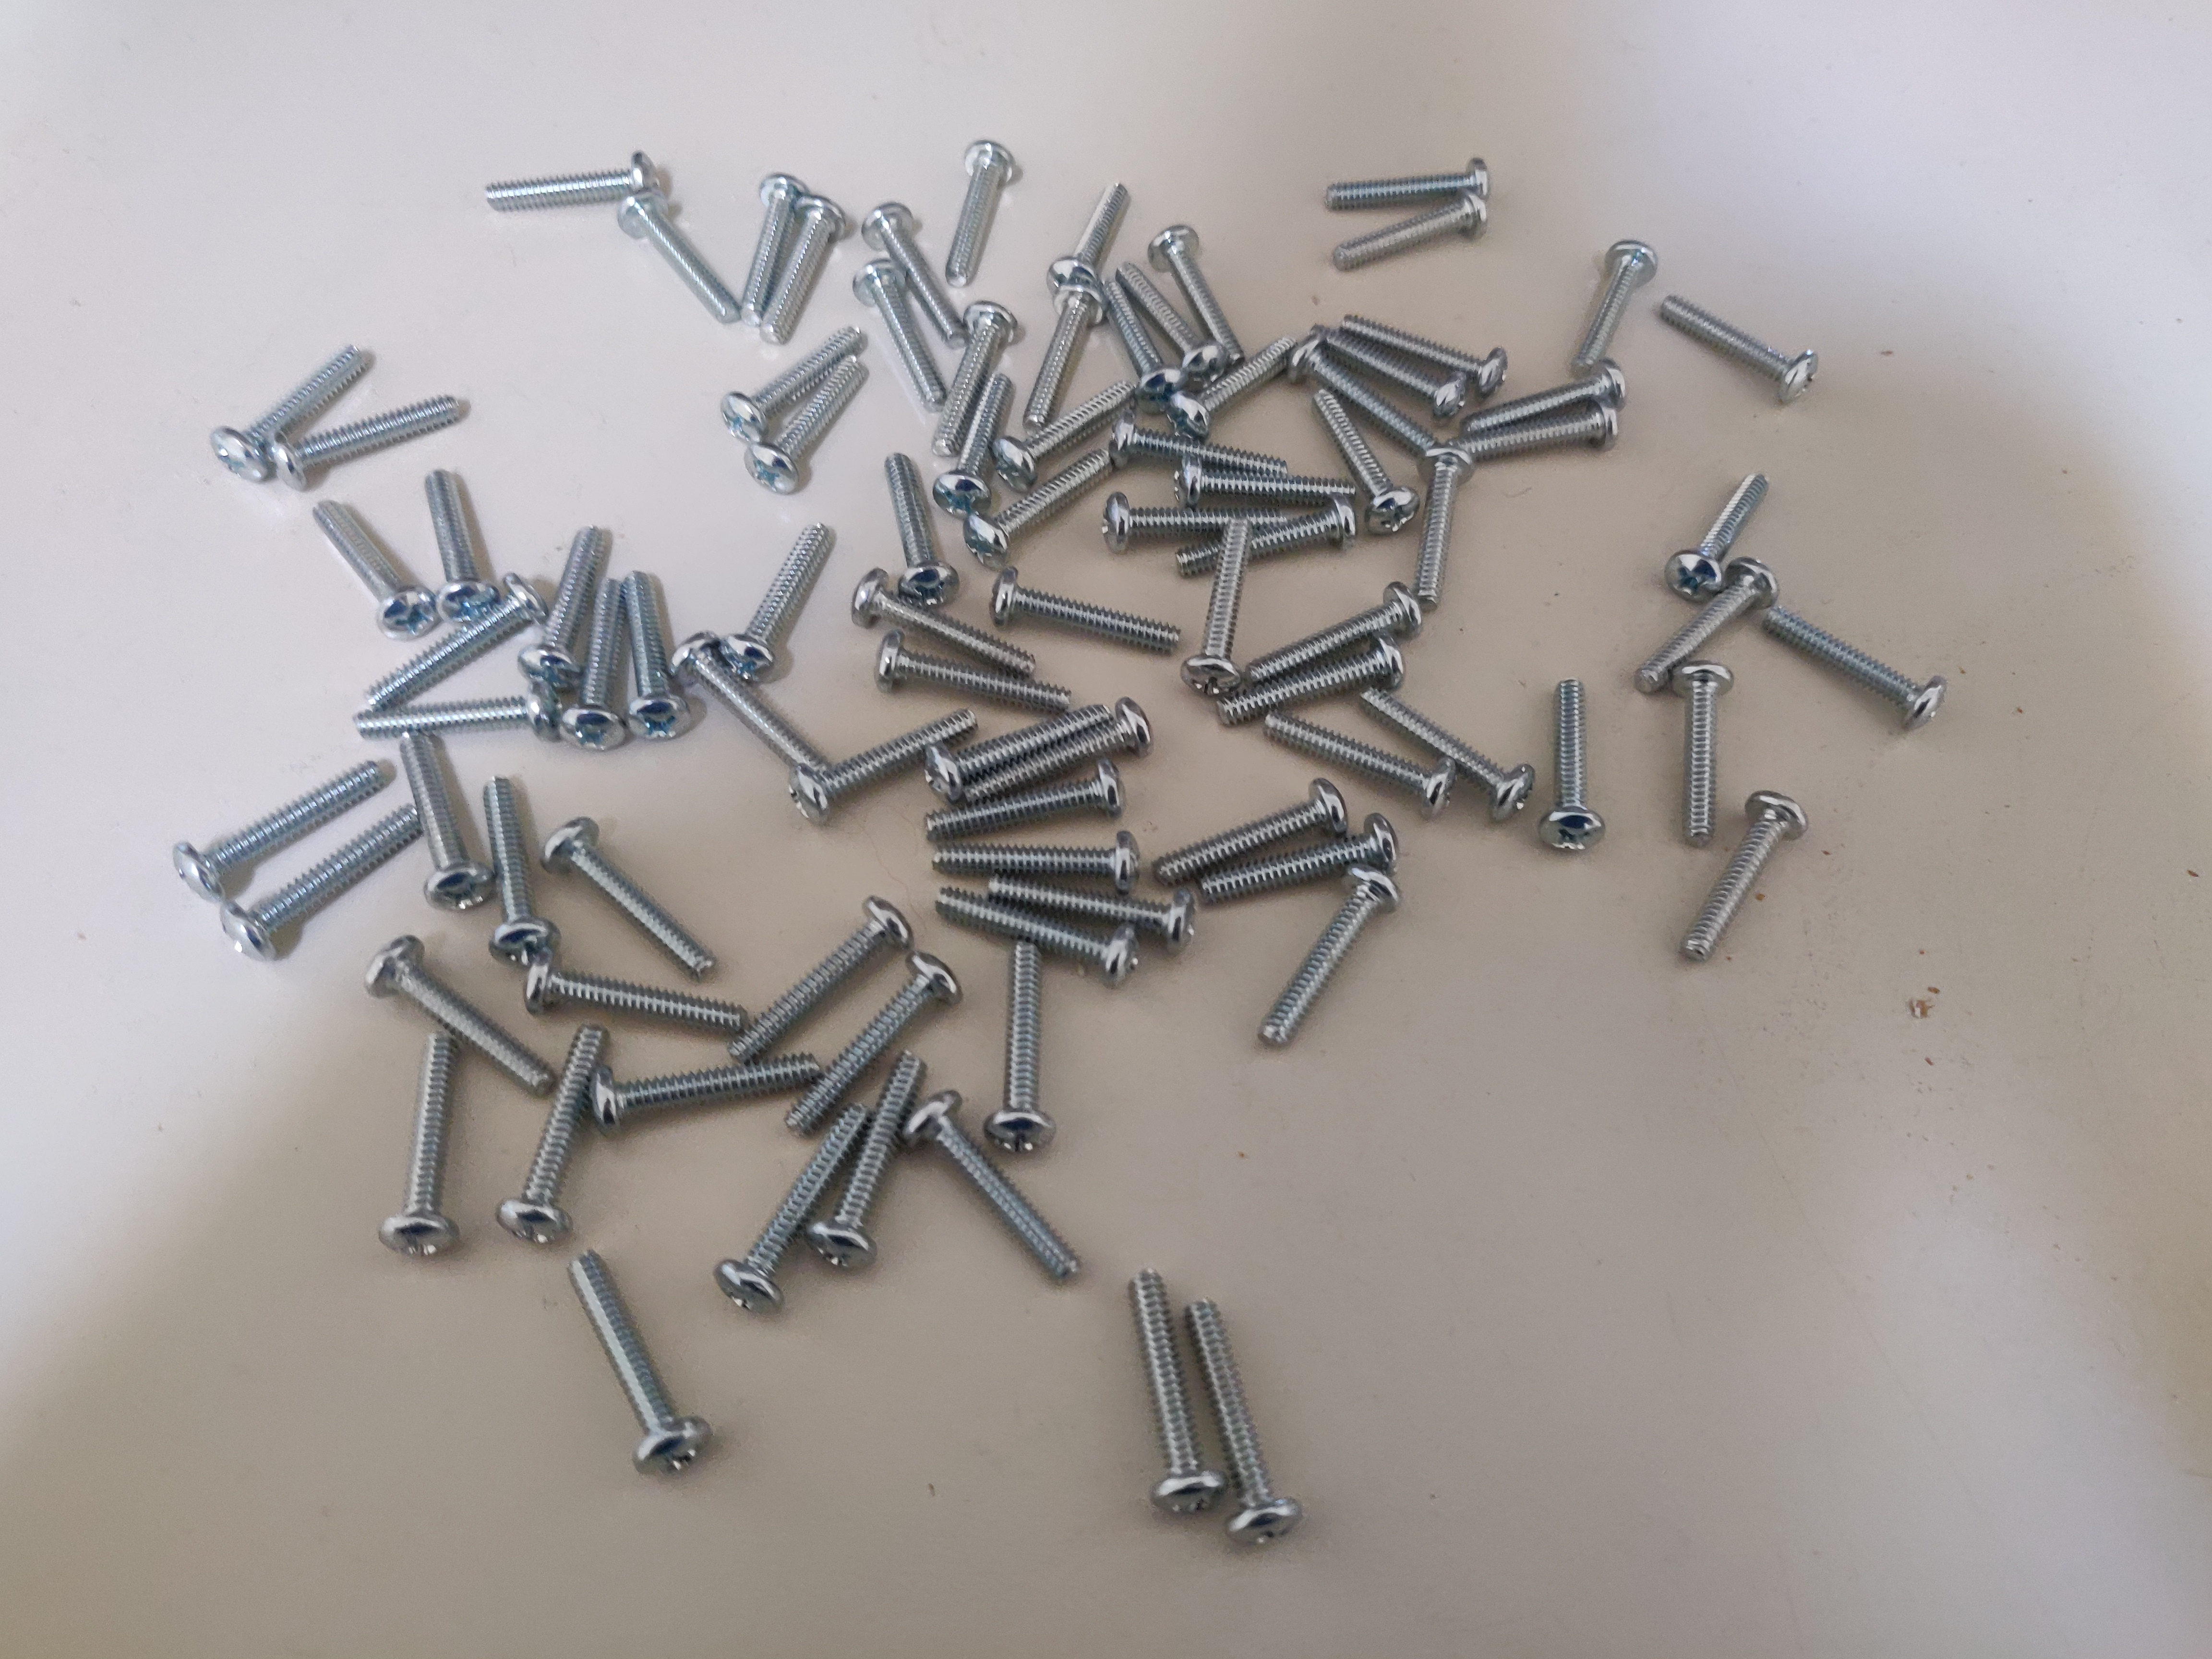longscrew: (913, 1087, 1075, 1295), (732, 1080, 866, 1312), (564, 1253, 704, 1473), (792, 953, 963, 1122), (172, 756, 376, 892), (218, 810, 409, 953), (826, 1047, 932, 1283), (1122, 1263, 1221, 1513), (376, 948, 545, 1093), (1191, 1300, 1289, 1549), (1683, 793, 1817, 972), (556, 824, 718, 972), (737, 899, 895, 1047), (380, 1033, 484, 1255), (500, 1025, 604, 1246), (1761, 612, 1947, 732), (1266, 870, 1388, 1051), (364, 587, 540, 709), (214, 340, 369, 472), (1193, 814, 1411, 908), (597, 1051, 840, 1134), (270, 378, 463, 483), (517, 962, 749, 1047), (791, 706, 974, 814), (927, 694, 1109, 802), (1251, 706, 1453, 803), (932, 880, 1143, 972), (977, 695, 1160, 802), (1634, 551, 1770, 694), (1148, 782, 1346, 880), (679, 631, 822, 765), (975, 434, 1123, 563), (1366, 685, 1515, 812), (982, 936, 1068, 1155), (982, 556, 1183, 645), (1249, 568, 1416, 673), (874, 631, 1085, 713), (862, 572, 1038, 667), (1301, 326, 1437, 450), (1214, 640, 1421, 720), (730, 523, 836, 678), (301, 502, 430, 629), (1667, 464, 1780, 601), (1312, 382, 1416, 530), (397, 728, 482, 910), (719, 329, 860, 437), (923, 758, 1120, 835), (1667, 293, 1813, 396), (751, 368, 866, 493), (998, 375, 1136, 477), (606, 200, 733, 310), (763, 195, 853, 345), (482, 774, 552, 967), (1317, 317, 1465, 408), (866, 202, 961, 340), (1447, 364, 1630, 436), (934, 369, 1021, 519), (1115, 260, 1224, 378), (930, 305, 1017, 453), (932, 819, 1141, 880), (859, 256, 942, 408), (523, 516, 597, 685), (1176, 317, 1289, 429), (1346, 303, 1507, 382), (557, 580, 632, 748), (617, 572, 691, 739), (998, 884, 1193, 946), (883, 450, 963, 601), (1115, 415, 1308, 477), (1193, 511, 1258, 699), (942, 139, 1028, 279), (1338, 192, 1496, 267), (1174, 511, 1371, 568), (1024, 288, 1104, 429), (1052, 162, 1132, 301), (1155, 221, 1237, 355), (1545, 676, 1604, 859), (1409, 455, 1477, 610), (1674, 662, 1731, 845), (477, 150, 664, 206), (1318, 153, 1507, 207), (423, 477, 491, 622), (1115, 265, 1184, 399), (1170, 464, 1360, 512), (1590, 246, 1663, 368), (357, 694, 554, 739), (737, 174, 792, 317), (1097, 500, 1292, 538), (1480, 403, 1651, 446)
